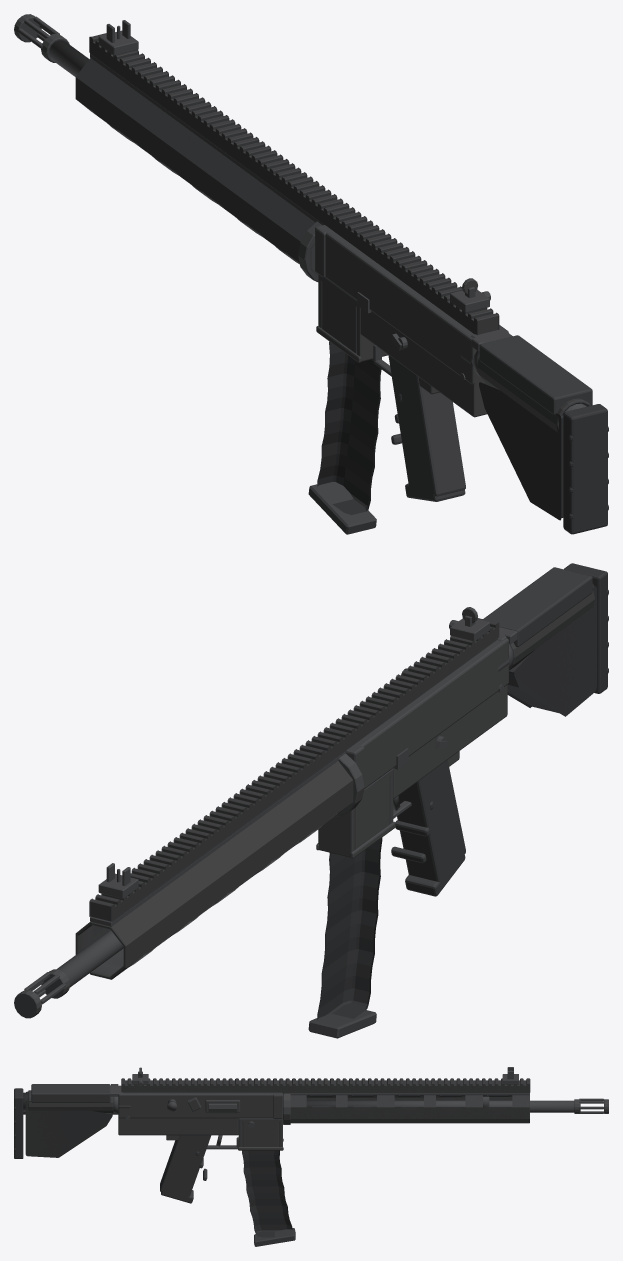
File: carbine.glb
3 views of the same model, one above another, from view 1: azimuth 30°, elevation 25°; view 2: azimuth 150°, elevation 25°; view 3: azimuth 270°, elevation 25° (orthographic). The views are drawn at different scales.
Parts seen in each view (by area): view 1: top_rail, handguard, stock, magazine, upper_receiver, grip, lower_receiver, buttpad, muzzle_device, sight_front, sight_rear, barrel_assembly; view 2: handguard, top_rail, stock, magazine, upper_receiver, lower_receiver, grip, buttpad, muzzle_device, barrel_assembly, sight_front, sight_rear; view 3: handguard, top_rail, stock, upper_receiver, lower_receiver, magazine, grip, barrel_assembly, buttpad, muzzle_device, bolt.
Part boxes in pixels (x1,y1,x2,y2): top_rail: (89,33,499,335); handguard: (75,54,323,281); stock: (477,335,592,520); magazine: (308,341,381,534); upper_receiver: (315,225,508,384); grip: (388,355,465,501); lower_receiver: (316,274,487,417); buttpad: (563,404,608,534); muzzle_device: (14,14,69,62); sight_front: (98,20,138,55); sight_rear: (450,278,490,312); barrel_assembly: (48,40,89,76); handguard: (75,752,364,979); top_rail: (89,618,499,922); stock: (483,567,596,716); magazine: (308,837,382,1038); upper_receiver: (345,638,508,790); lower_receiver: (316,658,509,858); grip: (391,760,465,896); buttpad: (564,563,608,693); muzzle_device: (14,969,69,1018); barrel_assembly: (57,930,123,987); sight_front: (98,863,138,898); sight_rear: (449,607,489,641); handguard: (283,1093,529,1124); top_rail: (121,1078,530,1092); stock: (25,1084,113,1157); upper_receiver: (118,1092,282,1118); lower_receiver: (118,1104,283,1150); magazine: (242,1150,295,1246); grip: (160,1135,211,1203); barrel_assembly: (306,1095,574,1112); buttpad: (14,1088,23,1158); muzzle_device: (574,1098,608,1113); bolt: (110,1084,236,1113).
Size of the model in its own units: 0.063 by 0.3055 by 0.94.
Materials: 3 (3 with a texture image).
